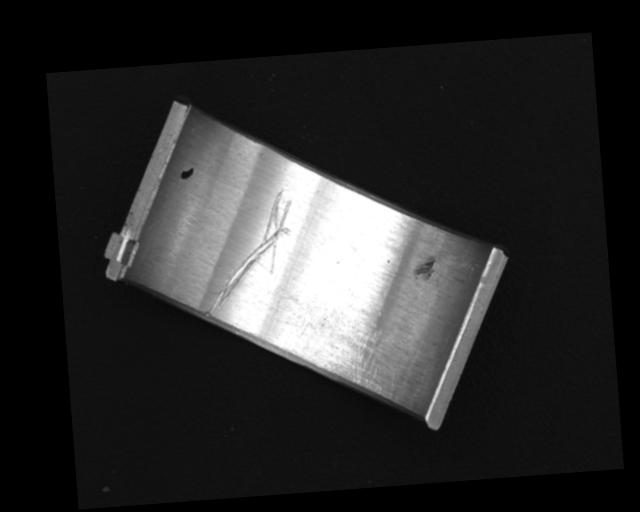blot: (178, 165, 195, 180)
bruise: (413, 256, 438, 281)
nick: (197, 186, 302, 315)
scratch: (293, 306, 398, 402)
